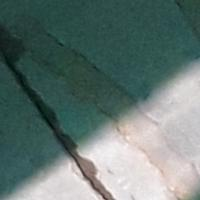crack: (1, 33, 124, 199)
